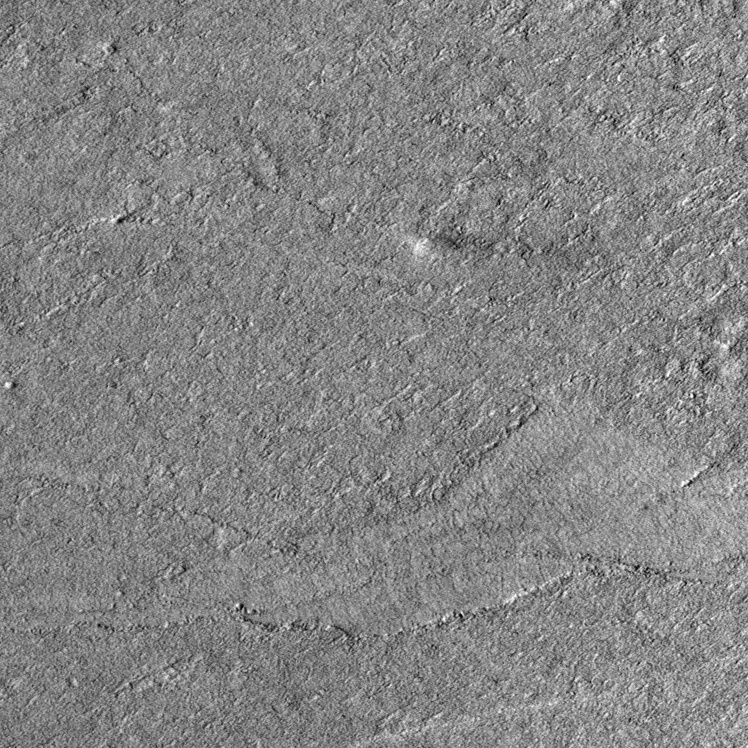dust_devil: (404, 232, 478, 261)
